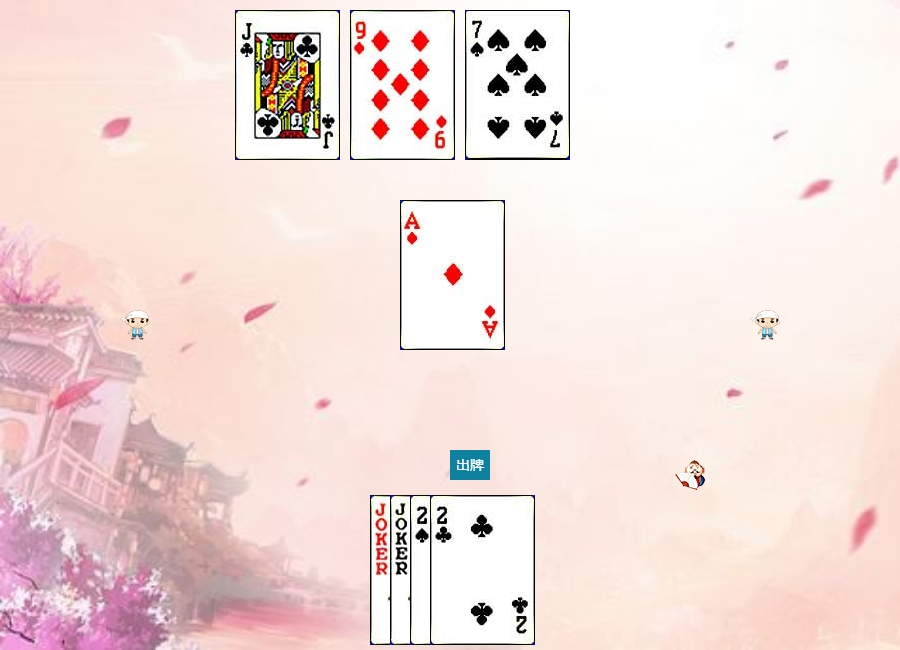11~2: (235, 10, 340, 160)
14~1: (400, 200, 505, 350)
15~2: (430, 495, 535, 645)
15~4: (410, 495, 515, 645)
17~3: (390, 495, 495, 645)
18~4: (370, 495, 475, 645)
7~4: (465, 10, 570, 160)
9~1: (350, 10, 455, 160)
